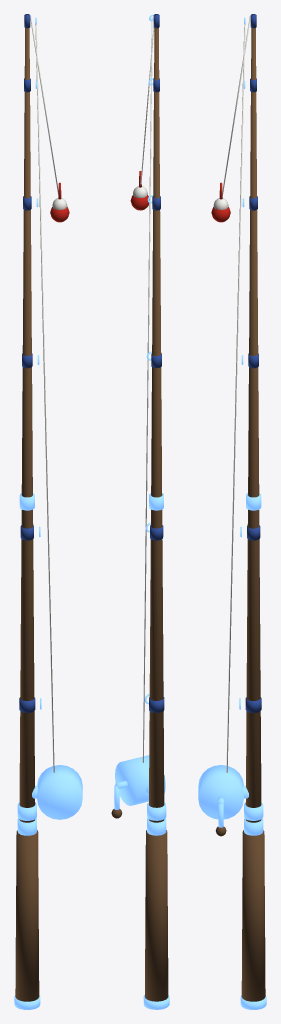
Rendered from angelrute.episch.glb.
3 renders of one model, left to right at view 1: azimuth 90°, elevation 25°; view 2: azimuth 210°, elevation 25°; view 3: azimuth 270°, elevation 25°, orthographic.
Parts seen in each view (by area): view 1: angelrute; view 2: angelrute; view 3: angelrute.
Boxes of the visible parts, bbox=[...] form: angelrute: bbox=[14, 14, 82, 1009]; angelrute: bbox=[111, 14, 169, 1009]; angelrute: bbox=[198, 14, 266, 1009].
Bounding box in the file's own units: 0.09 × 2.01 × 0.126.
